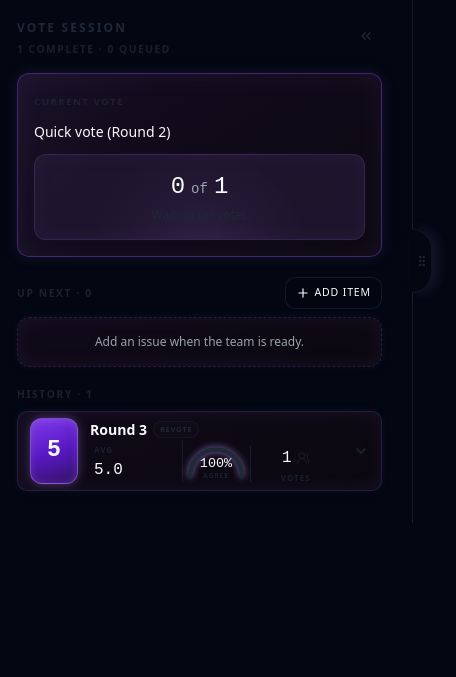
Test: VoteSessionPanel history › labels a revote and compares its overall results
Click the button named "5 Round 3 Revote Avg 5.0 100% agreement 1 Votes": (200, 451) x1=18 y1=412 x2=381 y2=490
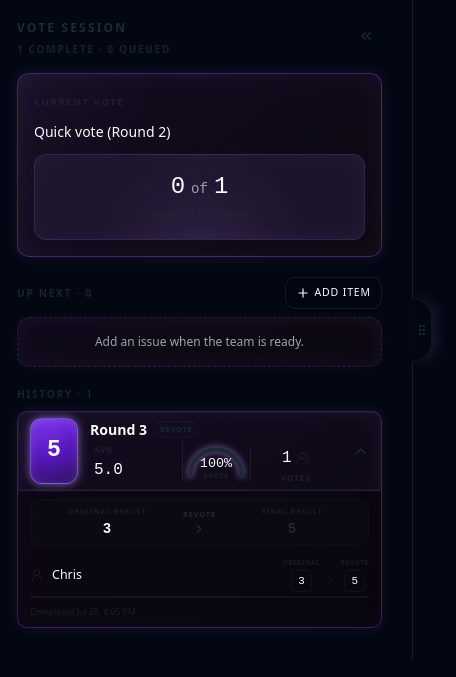
Check: the text "Final result" is shown, box x1=261 y1=506 x2=323 y2=517
Check: the text "Original result" is shown, box x1=68 y1=506 x2=146 y2=517
